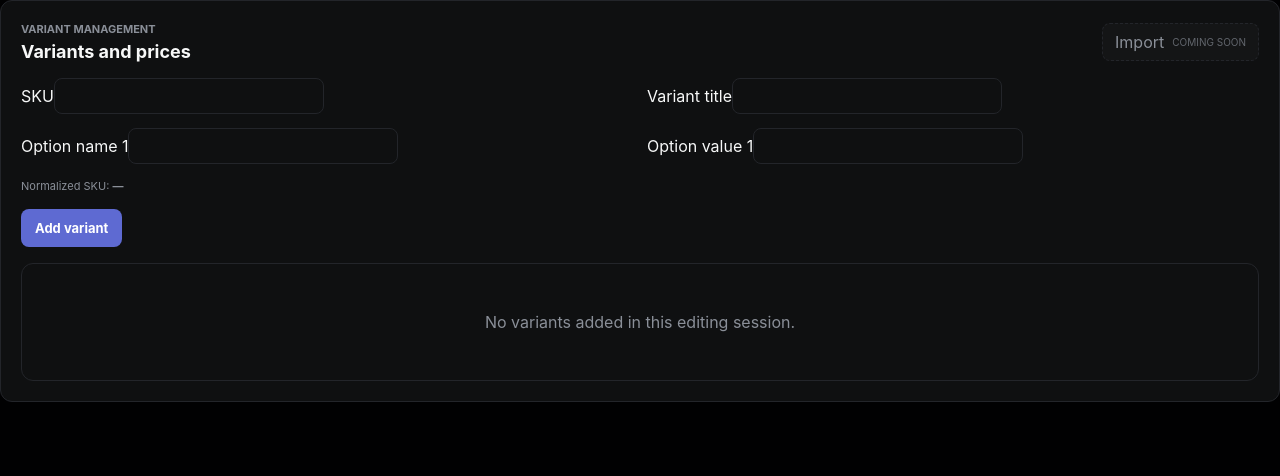
Scenario: VariantEditor › shows option validation and SKU conflicts
Click the button "Add variant". click: (72, 228)
box: top-left (21, 209), bottom-right (122, 247)
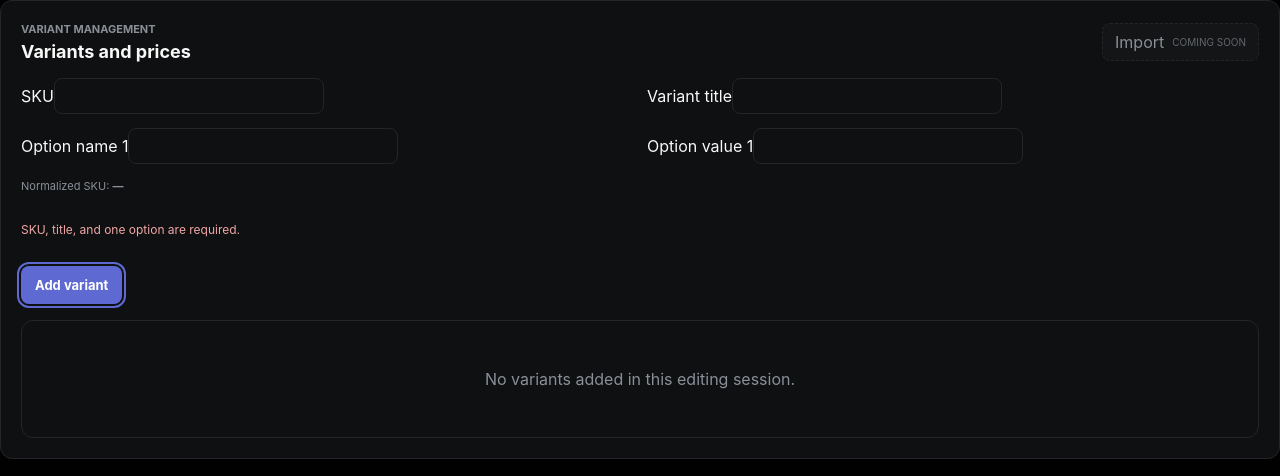
Expected: the text "SKU, title, and one option are required." is shown, top-left (21, 222), bottom-right (240, 237)
Type "duplicate" into the field labelled "SKU". click: (189, 96)
box: top-left (54, 78), bottom-right (324, 114)
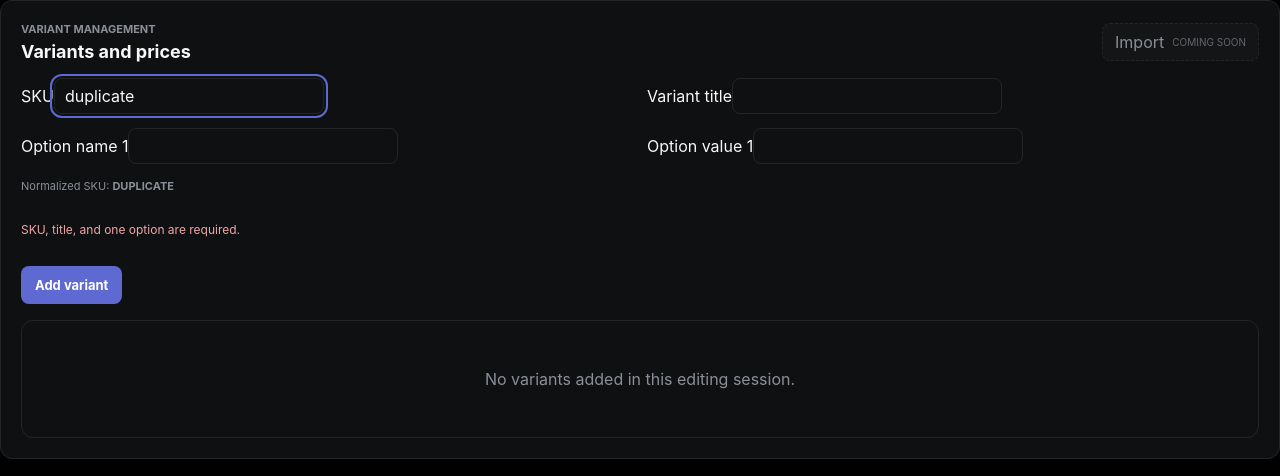
Type "Duplicate" into the field labelled "Variant title". click: (867, 96)
box: top-left (732, 78), bottom-right (1002, 114)
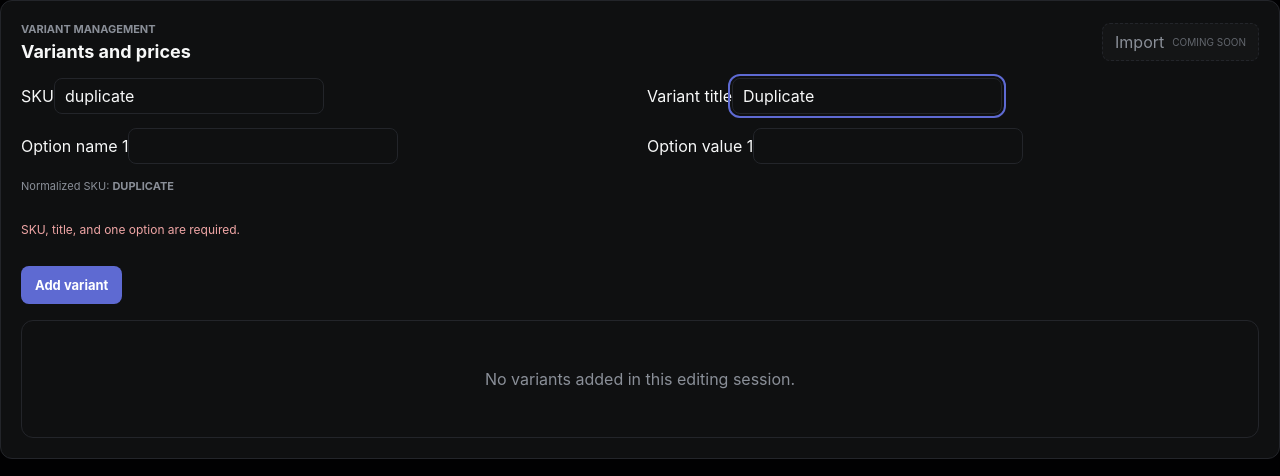
Type "size" into the field labelled "Option name 1". click: (264, 146)
box: top-left (128, 128), bottom-right (398, 164)
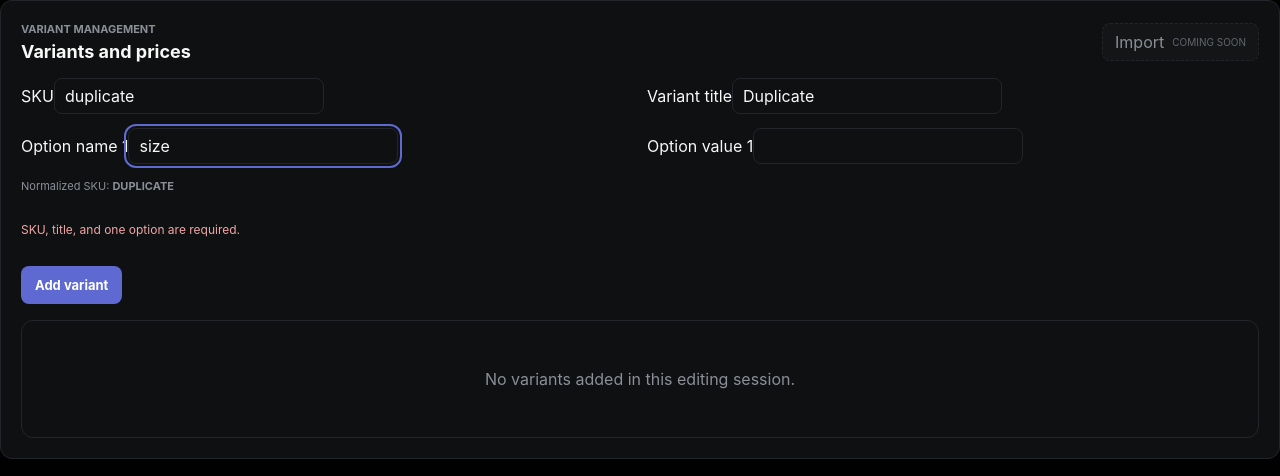
Type "M" into the field labelled "Option value 1". click: (888, 146)
box: top-left (753, 128), bottom-right (1023, 164)
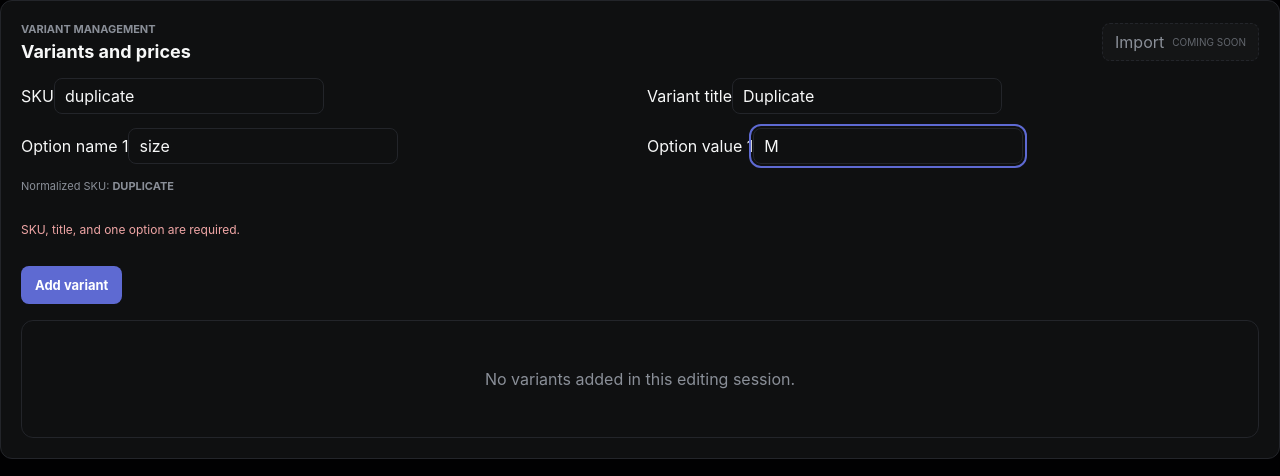
Click the button "Add variant". click: (72, 285)
box: top-left (21, 266), bottom-right (122, 304)
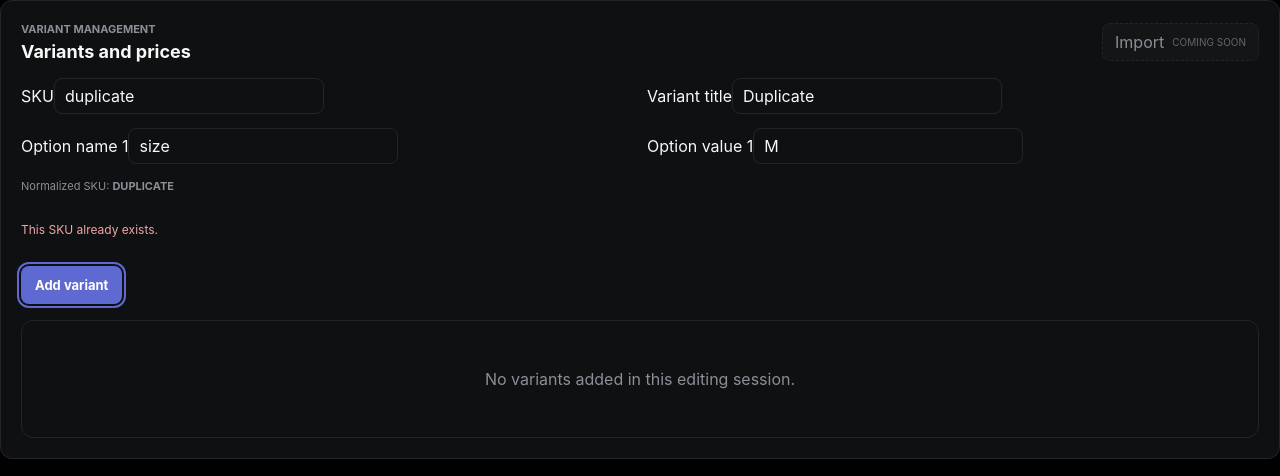
Expected: the text "This SKU already exists." is shown, top-left (21, 222), bottom-right (158, 237)
